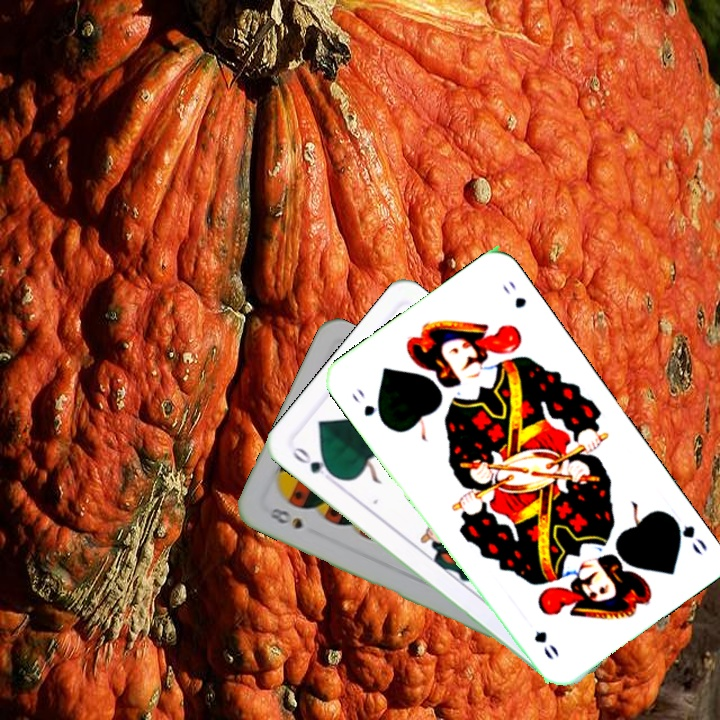GO: (664, 509, 711, 558), (288, 442, 340, 481), (348, 384, 389, 428)
S8: (265, 503, 306, 532)
